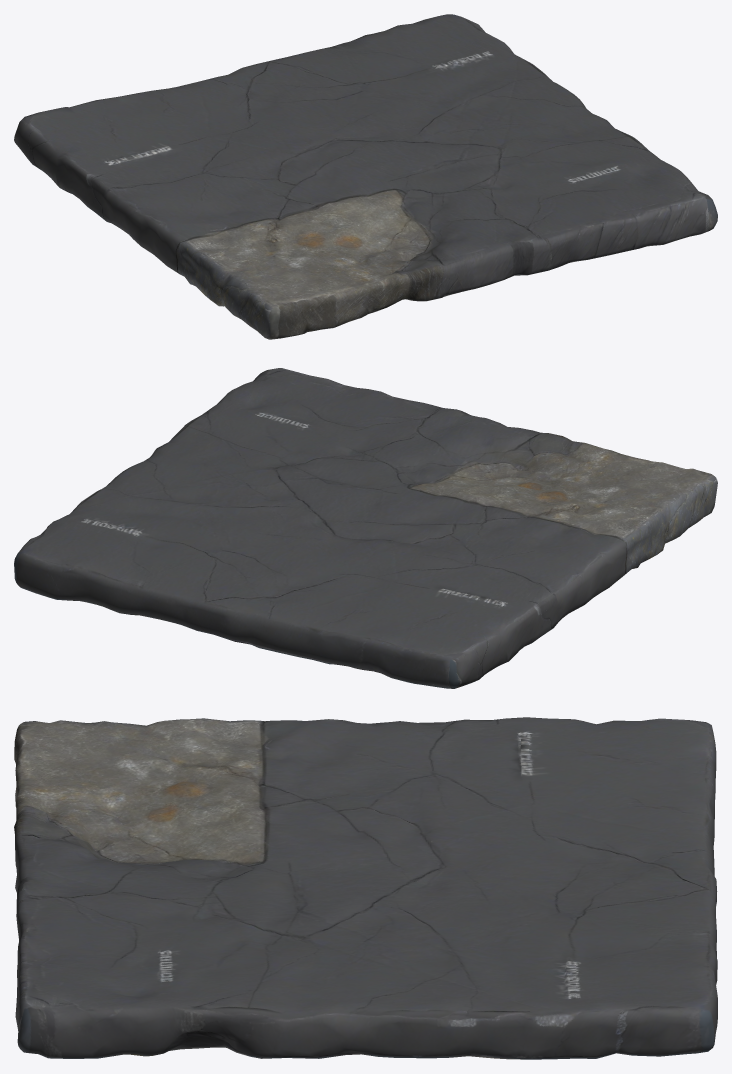
The model's file is StoneTablet_texture.fbx.
3 views of the same model, one above another, from view 1: azimuth 30°, elevation 25°; view 2: azimuth 150°, elevation 25°; view 3: azimuth 270°, elevation 25° (orthographic). The views are drawn at different scales.
Parts seen in each view (by area): view 1: input; view 2: input; view 3: input.
Part boxes in pixels (x1,y1,x2,y2): input: [14, 14, 717, 339]; input: [14, 368, 717, 688]; input: [14, 717, 717, 1059].
Size of the model in its own units: 198 by 17.61 by 198.
Materials: 1 (1 with a texture image).
